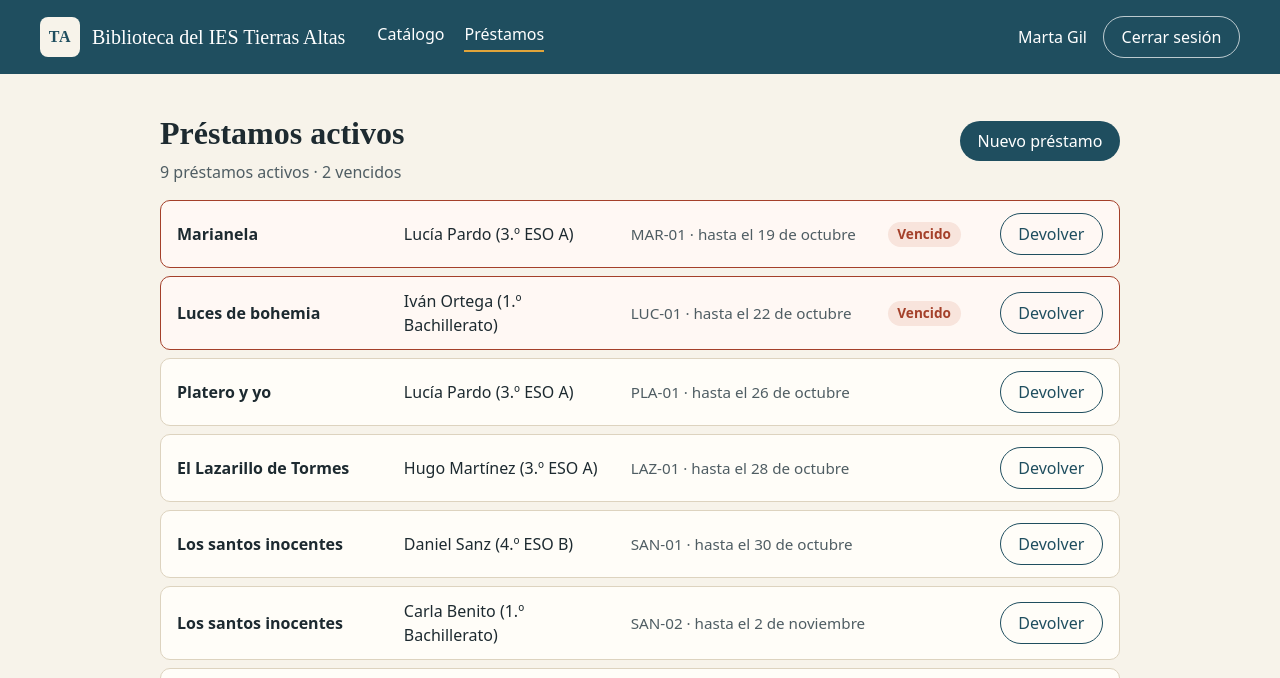
Test: Los préstamos › devolver un libro lo quita de la lista y lo deja disponible
Click the button named "Devolver «Marianela», de Lucía Pardo": (1051, 234) [1000,213,1103,255]
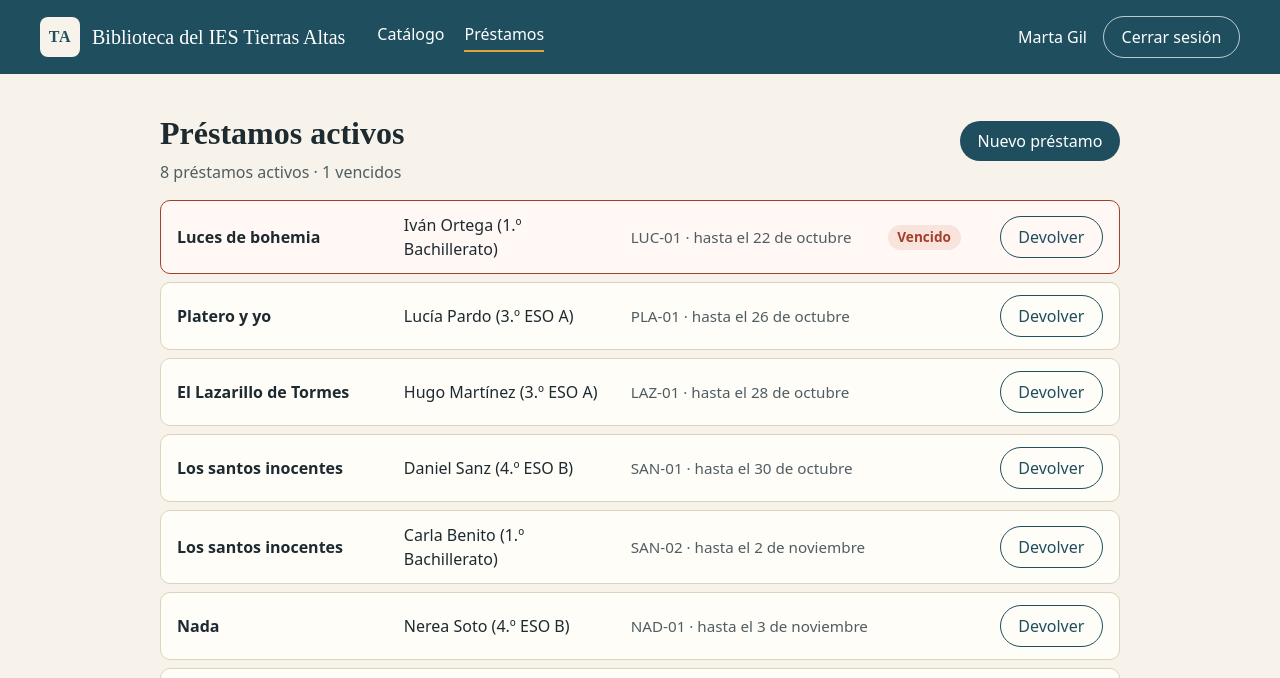
Result: the text "8 préstamos activos · 1 vencidos" is shown at [160,161,401,183]
Result: the text "Marianela" is gone
Click the link "Catálogo": (411, 37) [377,22,444,52]
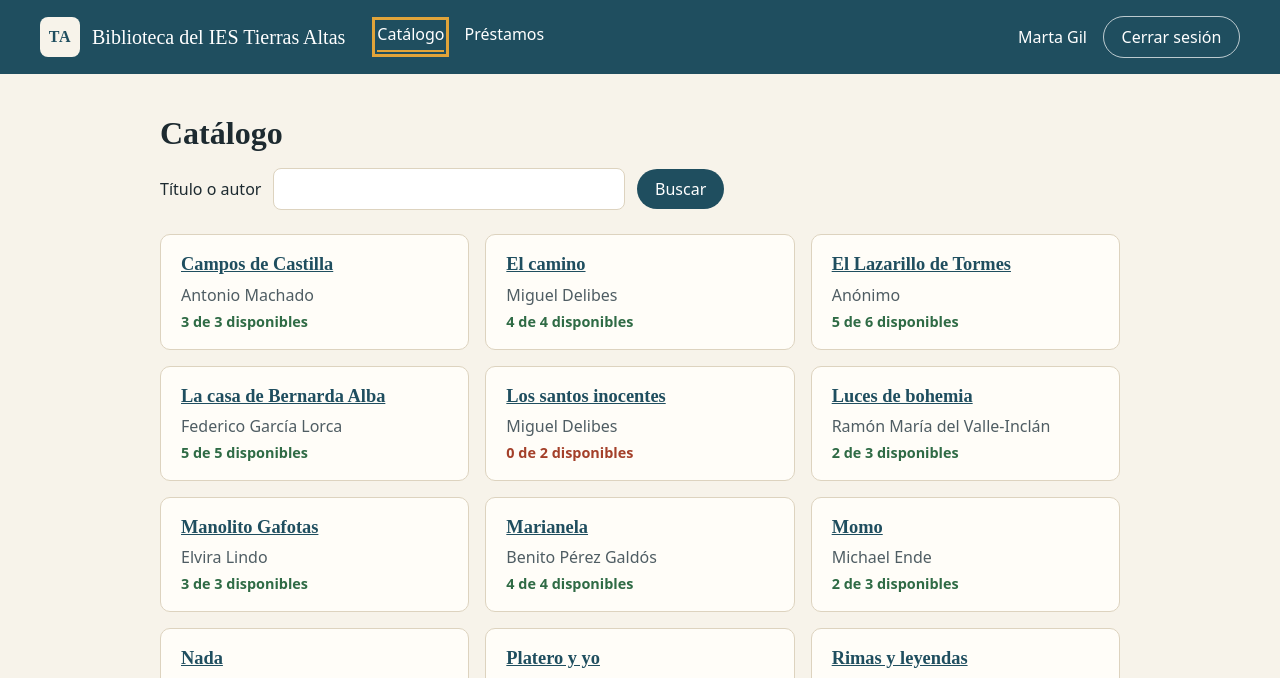
Result: the list item "Marianela" shows "4 de 4 disponibles" at [485,497,795,612]
